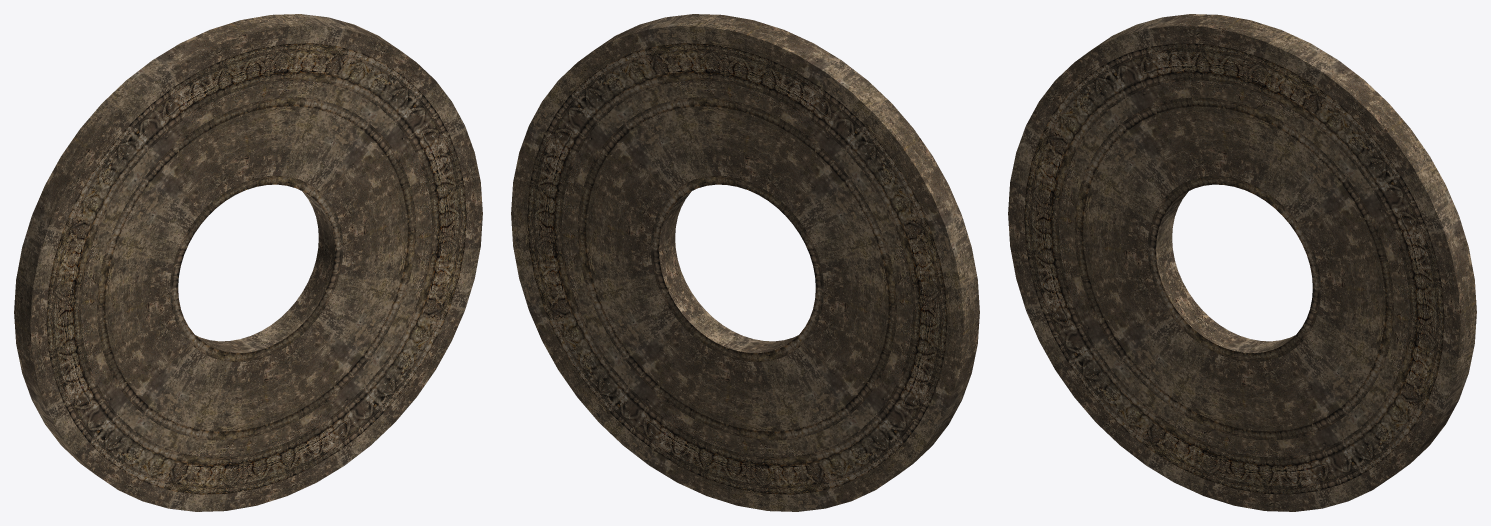
File: materials_5_decoration_plate_12.fbx
3 renders of one model, left to right at view 1: azimuth 30°, elevation 25°; view 2: azimuth 150°, elevation 25°; view 3: azimuth 330°, elevation 25°, orthographic.
Parts seen in each view (by area): view 1: materials_5_decoration_plate_12; view 2: materials_5_decoration_plate_12; view 3: materials_5_decoration_plate_12.
Part boxes in pixels (x1,y1,x2,y2): materials_5_decoration_plate_12: (14,14,482,511); materials_5_decoration_plate_12: (511,14,979,511); materials_5_decoration_plate_12: (1008,14,1476,511).
Size of the model in its own units: 127 by 127 by 7.86.
